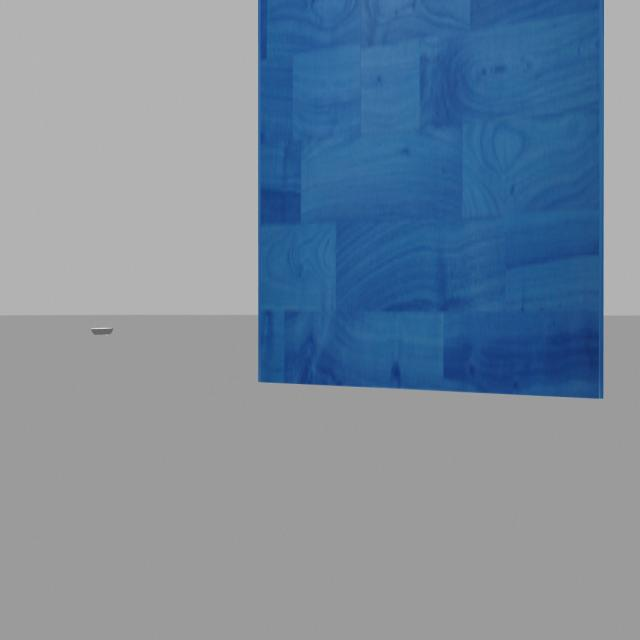bowl: (87, 325, 115, 338)
shelf: (244, 0, 620, 429)
